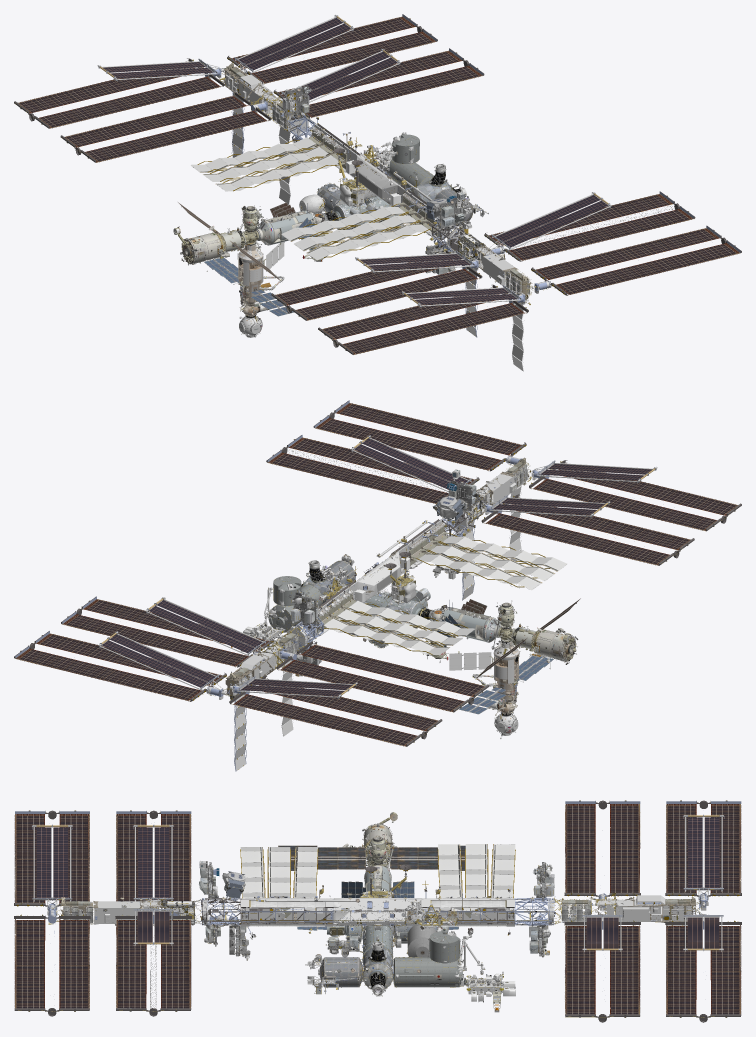
The model's file is iss-igoal-medium.glb.
3 views of the same model, one above another, from view 1: azimuth 30°, elevation 25°; view 2: azimuth 150°, elevation 25°; view 3: azimuth 270°, elevation 25° (orthographic). The views are drawn at different scales.
Parts seen in each view (by area): view 1: IGOAL_SSREF; view 2: IGOAL_SSREF; view 3: IGOAL_SSREF.
Part boxes in pixels (bbox=[...]): IGOAL_SSREF: bbox=[14, 14, 741, 371]; IGOAL_SSREF: bbox=[14, 400, 741, 771]; IGOAL_SSREF: bbox=[14, 800, 741, 1022].
Bounding box in the file's own units: 73.42 × 30.63 × 108.
44 materials, 41 textured.
